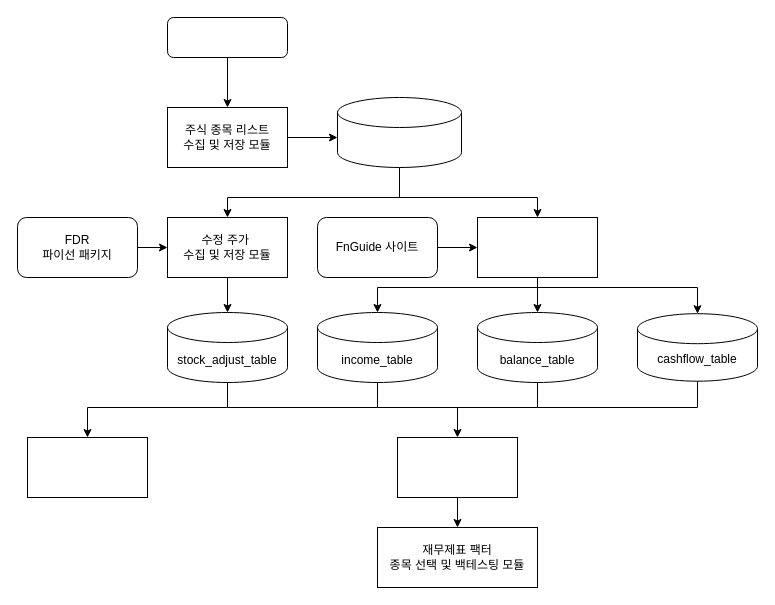
Some shapes in this 775 by 605 pixel diagram are drawn without their labels. Each missing label, with the centre of its shape:
"KRX 사이트" belongs at [227,37].
"stock_raw_table" belongs at [399,132].
"단기투자전략 백테스팅 모듈" belongs at [87,467].
"재무제표 기반 팩터 생성 및 저장 모듈" belongs at [457,467].
"재무제표 수집 및 저장 모듈" belongs at [537,247].
